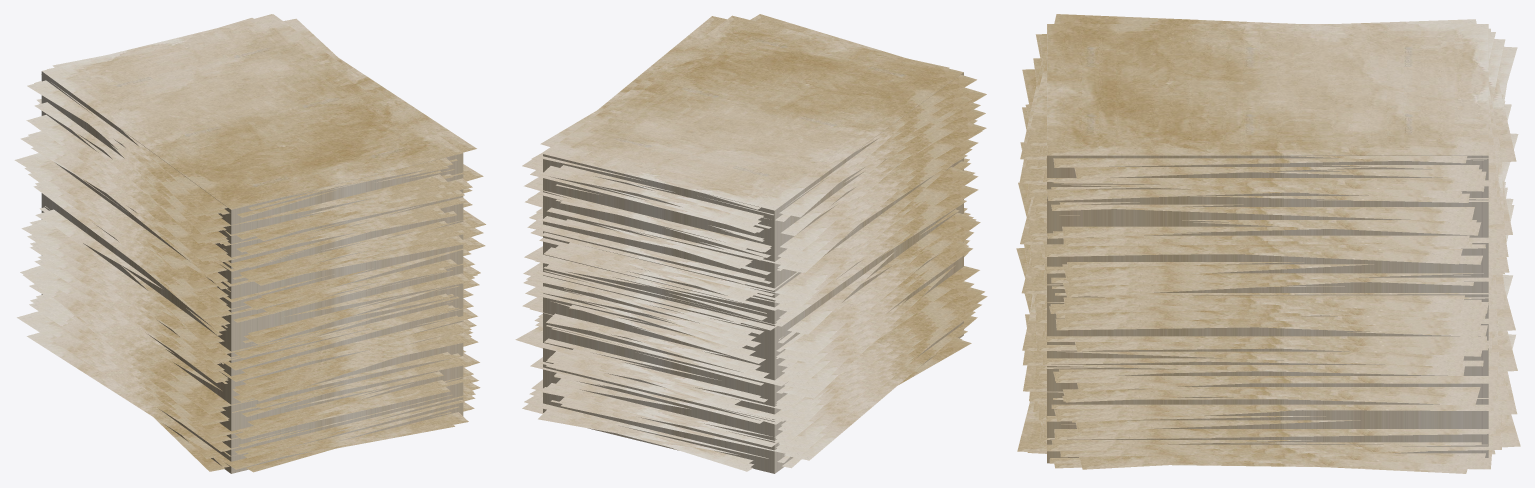
File: PaperStack.fbx
3 views of the same model, side by side, from view 1: azimuth 30°, elevation 25°; view 2: azimuth 150°, elevation 25°; view 3: azimuth 270°, elevation 25° (orthographic). The views are drawn at different scales.
Visible parts, largest first — view 1: PaperStack.002, PaperStack_Paper.002, PaperStack_Paper.001, PaperStack.001; view 2: PaperStack.002, PaperStack_Paper.002, PaperStack_Paper.001, PaperStack.001; view 3: PaperStack.002, PaperStack_Paper.002, PaperStack_Paper.001, PaperStack.001.
Boxes of the visible parts, x1=… form: PaperStack.002: x1=41, y1=14, x2=463, y2=341; PaperStack_Paper.002: x1=14, y1=14, x2=485, y2=344; PaperStack_Paper.001: x1=17, y1=206, x2=480, y2=472; PaperStack.001: x1=41, y1=203, x2=463, y2=473; PaperStack.002: x1=543, y1=15, x2=963, y2=342; PaperStack_Paper.002: x1=522, y1=14, x2=986, y2=342; PaperStack_Paper.001: x1=515, y1=208, x2=987, y2=471; PaperStack.001: x1=543, y1=204, x2=963, y2=473; PaperStack.002: x1=1047, y1=24, x2=1488, y2=309; PaperStack_Paper.002: x1=1018, y1=14, x2=1518, y2=319; PaperStack_Paper.001: x1=1016, y1=198, x2=1520, y2=473; PaperStack.001: x1=1047, y1=309, x2=1488, y2=463.
Size of the model in its own units: 0.2678 by 0.2278 by 0.3389.
3 materials, 3 textured.
